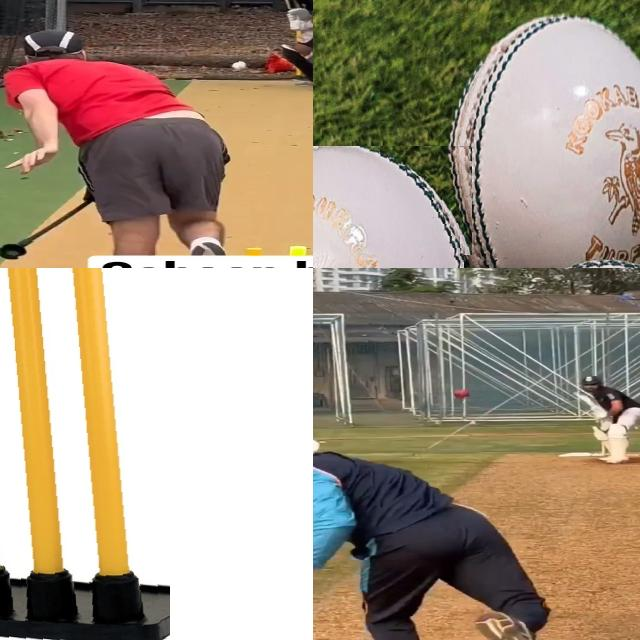Cricket ball: (449, 6, 640, 268), (313, 146, 472, 268), (230, 61, 248, 72), (453, 389, 471, 399)
Stumps: (0, 268, 170, 640)
